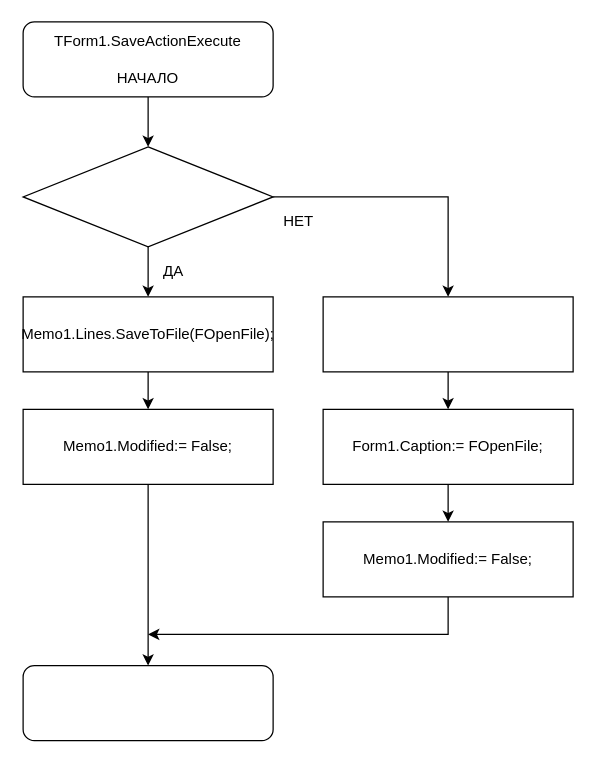
Some shapes in this 595 by 763 pixel diagram are drawn without their labels. The centre of each missing label's shape, as x and y in pixels:
FOpenFile <> '': point (147, 196)
SaveAsAction.Execute;: point (447, 334)
КОНЕЦ TForm1.SaveActionExecute: point (147, 702)
